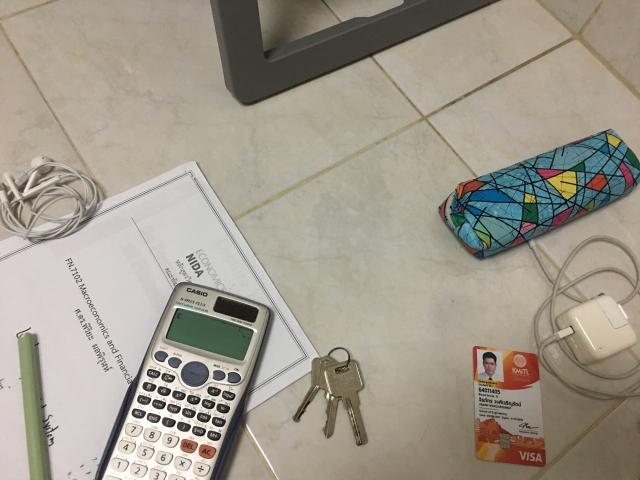Keys: (292, 348, 368, 445)
paper: (0, 161, 318, 480)
wire: (534, 236, 640, 399), (0, 156, 100, 240)
